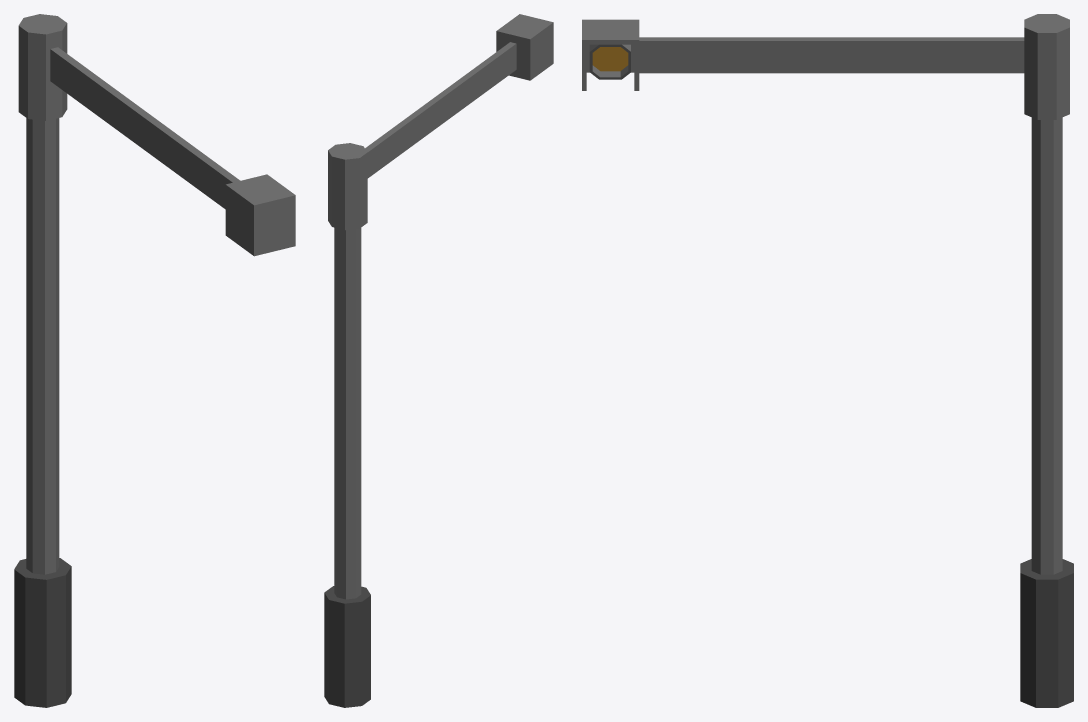
Rendered from Traffic Light 2.fbx.
3 views of the same model, side by side, from view 1: azimuth 30°, elevation 25°; view 2: azimuth 150°, elevation 25°; view 3: azimuth 270°, elevation 25° (orthographic). The views are drawn at different scales.
Parts seen in each view (by area): view 1: Traffic Light 2; view 2: Traffic Light 2; view 3: Traffic Light 2.
Part boxes in pixels (x1,y1,x2,y2): Traffic Light 2: [14, 14, 295, 707]; Traffic Light 2: [324, 14, 553, 707]; Traffic Light 2: [582, 14, 1073, 707].
Size of the model in its own units: 0.2784 by 2.55 by 3.85.
